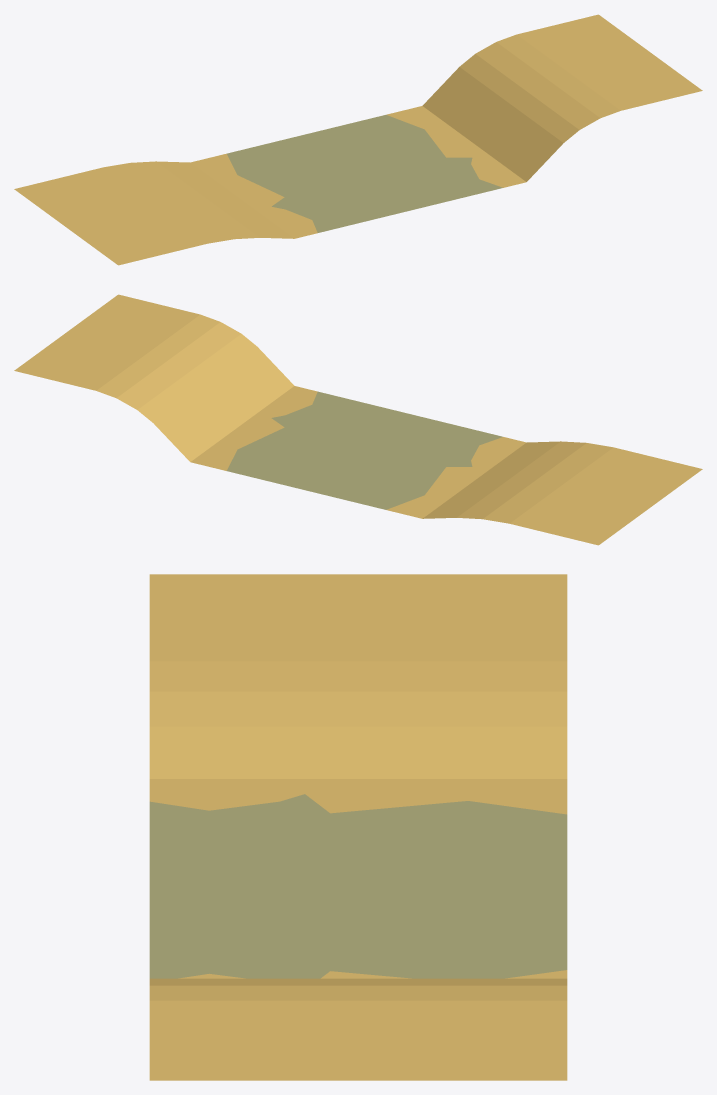
3 views of the same model, one above another, from view 1: azimuth 30°, elevation 25°; view 2: azimuth 150°, elevation 25°; view 3: azimuth 270°, elevation 25° (orthographic). The views are drawn at different scales.
Visible parts, largest first — view 1: Plane; view 2: Plane; view 3: Plane.
Part boxes in pixels (x1,y1,x2,y2): Plane: (14, 14, 702, 265); Plane: (14, 294, 702, 545); Plane: (149, 574, 567, 1080).
Bounding box in the file's own units: 246 × 3112 × 962.
